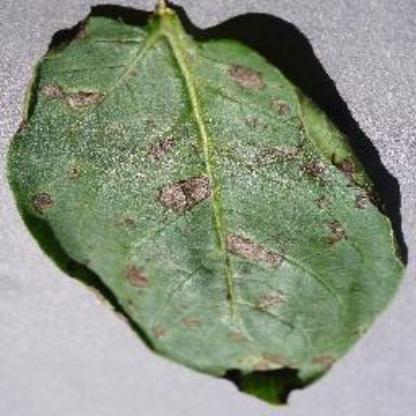Early-Blight: (11, 5, 415, 406)
